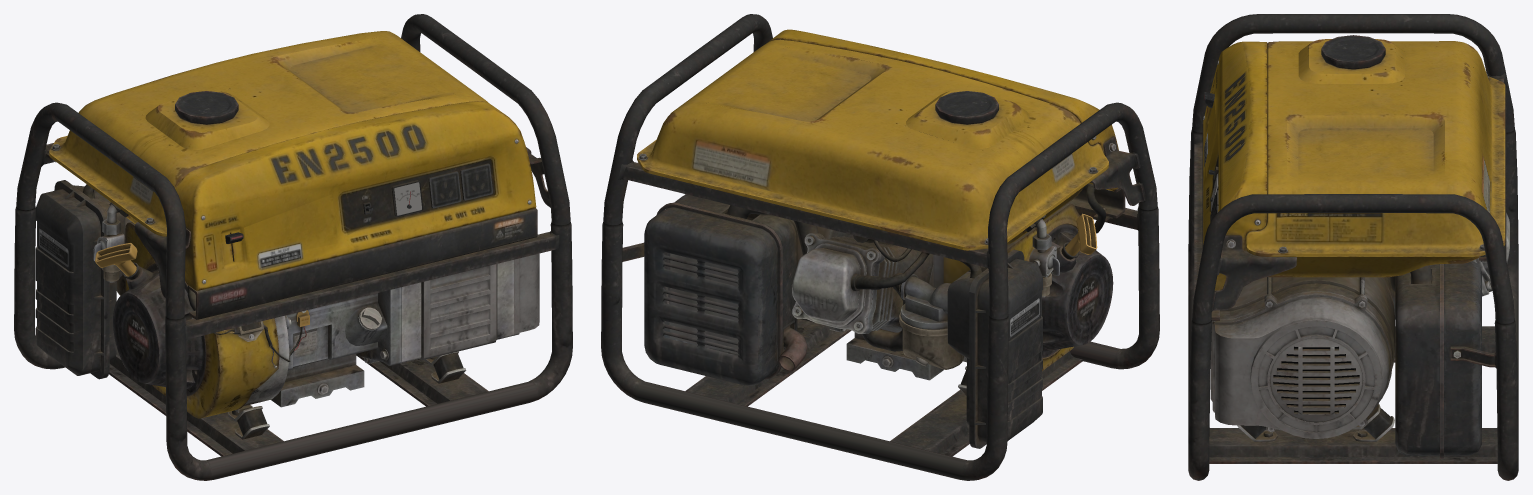
File: portable_generator.glb
The picture shows the model from 3 angles, left to right: view 1: azimuth 30°, elevation 25°; view 2: azimuth 150°, elevation 25°; view 3: azimuth 270°, elevation 25°; orthographic projection.
Parts seen in each view (by area): view 1: portable_generator; view 2: portable_generator; view 3: portable_generator.
Part boxes in pixels (left/top/right/bottom): portable_generator: left=14, top=14, right=572, bottom=480; portable_generator: left=601, top=14, right=1159, bottom=480; portable_generator: left=1188, top=14, right=1518, bottom=480.
Size of the model in its own units: 0.8183 by 0.5769 by 0.5641.
Materials: 2 (2 with a texture image).
